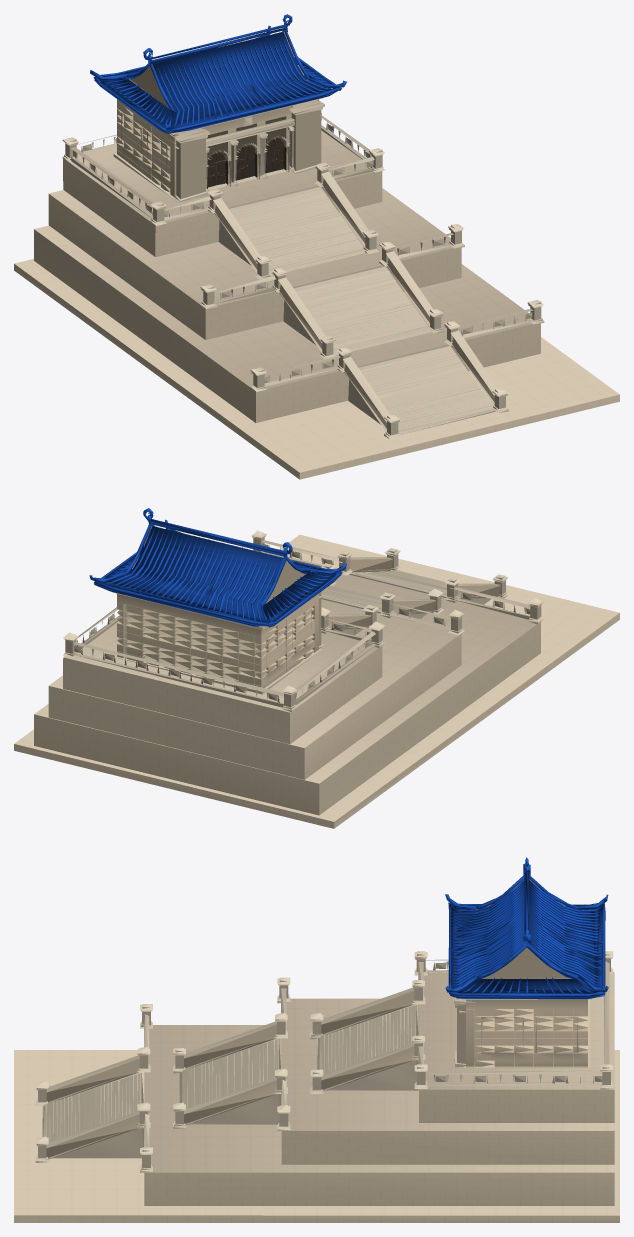
Rendered from zhongshan.glb.
The picture shows the model from 3 angles, top to bottom: view 1: azimuth 30°, elevation 25°; view 2: azimuth 150°, elevation 25°; view 3: azimuth 270°, elevation 25°; orthographic projection. The views are drawn at different scales.
Parts seen in each view (by area): view 1: 中山陵; view 2: 中山陵; view 3: 中山陵.
Boxes of the visible parts, left/top/right/bottom form: 中山陵: left=14, top=14, right=619, bottom=479; 中山陵: left=14, top=508, right=619, bottom=828; 中山陵: left=14, top=857, right=619, bottom=1222.
Size of the model in its own units: 21.98 by 15.26 by 33.98.
10 materials, 2 textured.
